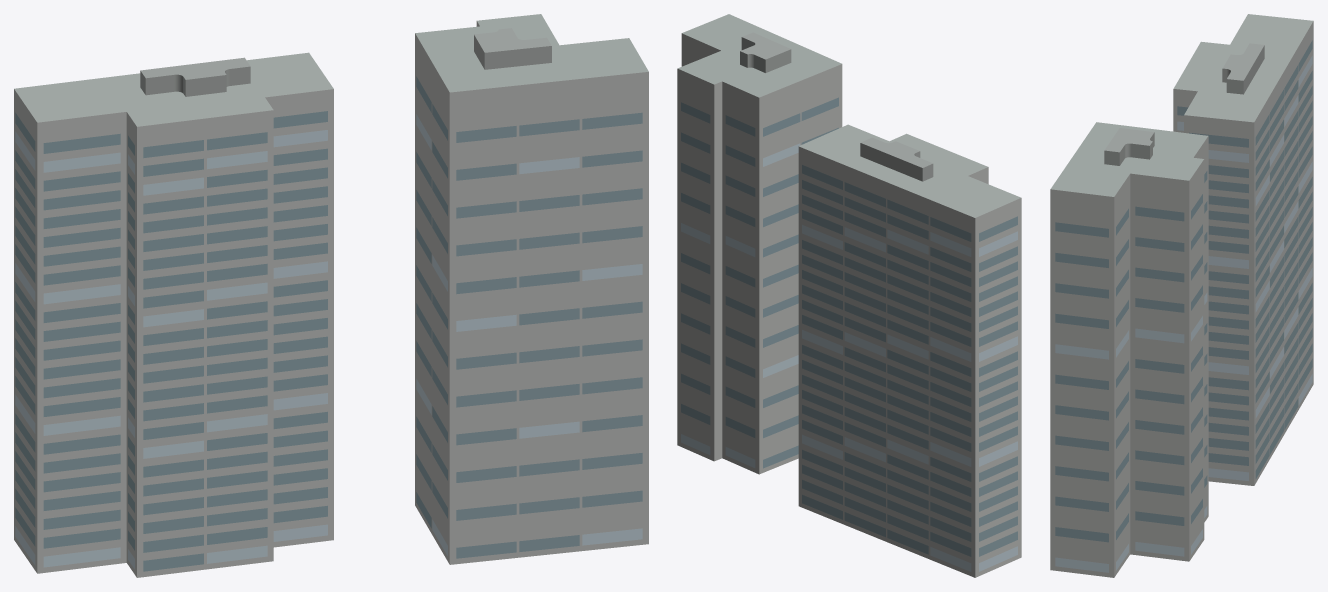
File: apt-a12112001.glb
The picture shows the model from 3 angles, left to right: view 1: azimuth 30°, elevation 25°; view 2: azimuth 150°, elevation 25°; view 3: azimuth 270°, elevation 25°; orthographic projection. The views are drawn at different scales.
Parts seen in each view (by area): view 1: apt-a12112001; view 2: apt-a12112001; view 3: apt-a12112001.
Part boxes in pixels (x1,y1,x2,y2): apt-a12112001: (14,14,648,577); apt-a12112001: (677,14,1021,577); apt-a12112001: (1050,14,1313,577).
Size of the model in its own units: 75.1 by 69 by 41.71.
